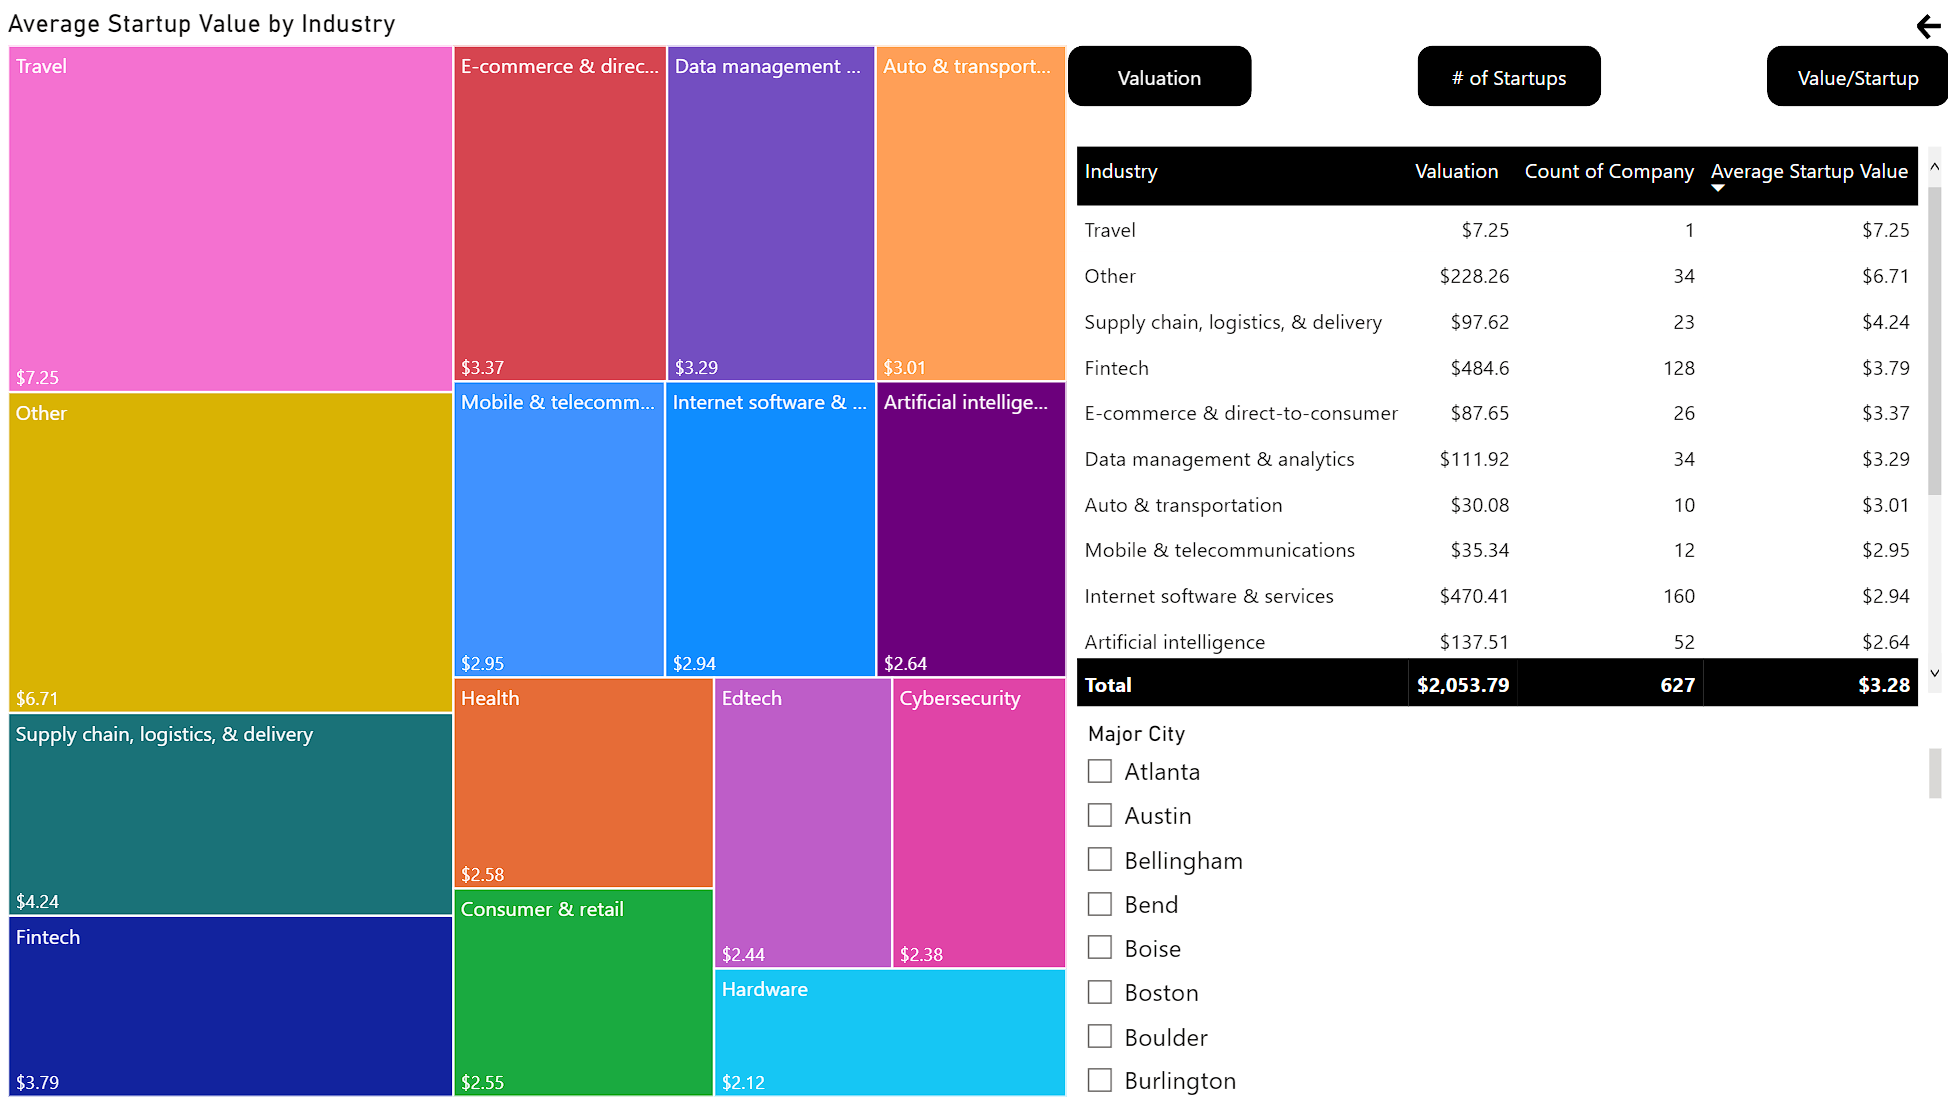

What the dashboard file says about the page in this screenshot:
{"tool":"powerbi","page":{"name":"Industries","canvas":[1280,720],"ordinal":3},"visuals":[{"type":"treemap","title":"Number of Startups per Industry","fields":{"Group":["Startups.Industry","Startups.Company"],"Values":["CountNonNull(Startups.Company)"]},"box":[0,0,705.1,719.8],"z":0},{"type":"tableEx","fields":{"Values":["Startups.Industry","Sum(Startups.Valuation)","Startups.Company","Major Cities Lookup.Average Startup Value"]},"box":[701.5,85.3,578.5,377.6],"z":1000},{"type":"slicer","fields":{"Values":["Major Cities Lookup.Major City"]},"box":[701.5,462.9,578.5,256.5],"z":4000},{"type":"actionButton","box":[701.5,24.7,120.5,40.2],"z":5000},{"type":"actionButton","box":[930.1,24.7,120.5,40.2],"z":6000},{"type":"actionButton","box":[1159.8,24.7,120.2,40.1],"z":7000},{"type":"actionButton","box":[1254.6,0,25.3,24.7],"z":8000}]}

Visuals, with their boxes in screenshot pixels (x1, y1, x2, y2), scaled from the page's 1280x720 canvas onto the 1948x1117 screenshot:
"Number of Startups per Industry" treemap: Rect(0, 0, 1073, 1116)
tableEx - Startups.Industry x Sum(Startups.Valuation): Rect(1068, 132, 1947, 718)
slicer - Major Cities Lookup.Major City: Rect(1068, 718, 1947, 1116)
actionButton: Rect(1068, 38, 1251, 101)
actionButton: Rect(1415, 38, 1599, 101)
actionButton: Rect(1765, 38, 1947, 101)
actionButton: Rect(1909, 0, 1947, 38)
